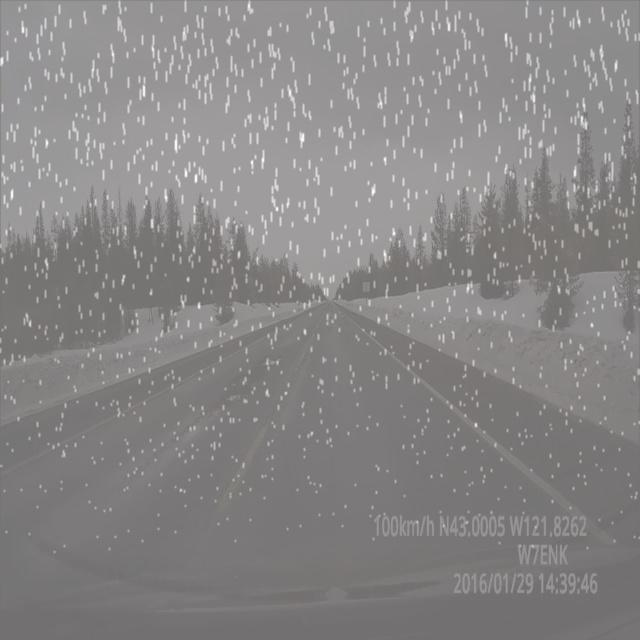Pothole: (133, 409, 211, 488), (220, 384, 244, 408)
